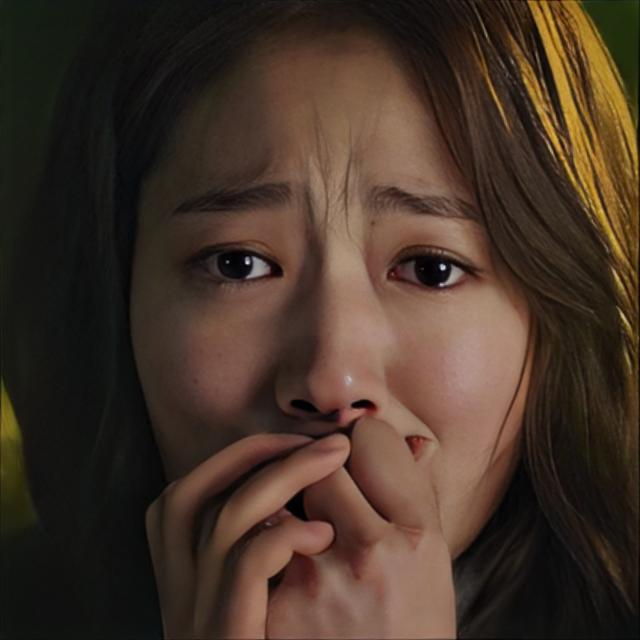sad: (121, 38, 540, 548)
